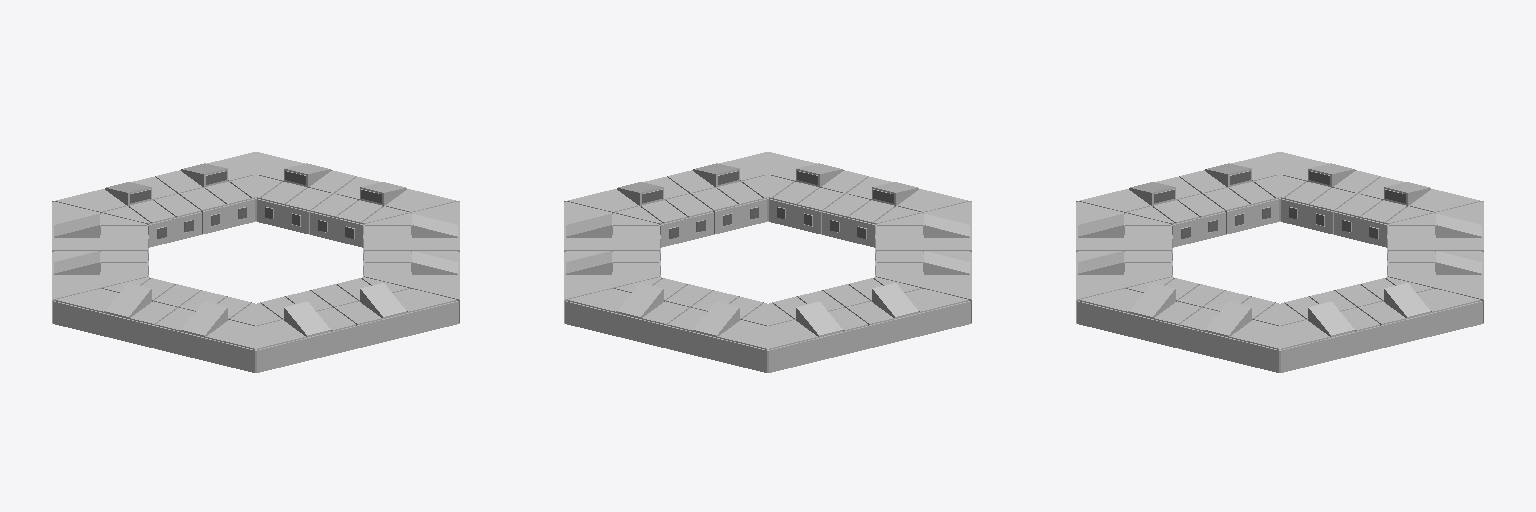
File: modelo_editado.obj
The picture shows the model from 3 angles: view 1: azimuth 30°, elevation 25°; view 2: azimuth 150°, elevation 25°; view 3: azimuth 270°, elevation 25°; orthographic projection.
Visible parts, largest first — view 1: Material2, Material2.003; view 2: Material2, Material2.003; view 3: Material2, Material2.003.
Boxes of the visible parts, x1,y1,x2,y2 form: Material2: [52, 152, 459, 372]; Material2.003: [130, 171, 381, 238]; Material2: [564, 152, 971, 372]; Material2.003: [642, 171, 893, 238]; Material2: [1076, 152, 1483, 372]; Material2.003: [1154, 171, 1405, 238].
Size of the model in its own units: 1662 by 142 by 1442.